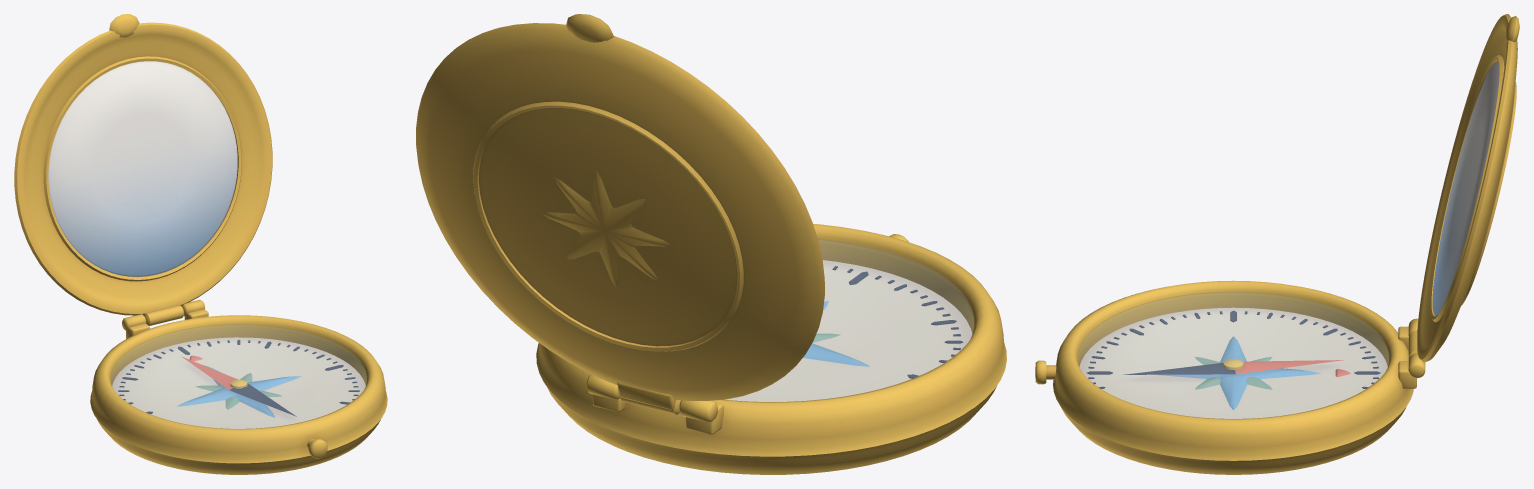
Rendered from compass.glb.
3 views of the same model, side by side, from view 1: azimuth 30°, elevation 25°; view 2: azimuth 150°, elevation 25°; view 3: azimuth 270°, elevation 25° (orthographic). The views are drawn at different scales.
Visible parts, largest first — view 1: compass_lid, compass_body, compass_glass; view 2: compass_lid, compass_body, compass_glass; view 3: compass_body, compass_glass, compass_lid.
Part boxes in pixels (left/top/right/bottom): compass_lid: left=14, top=14, right=272, bottom=325; compass_body: left=90, top=299, right=387, bottom=474; compass_glass: left=111, top=324, right=366, bottom=428; compass_lid: left=416, top=14, right=824, bottom=414; compass_body: left=536, top=224, right=1006, bottom=474; compass_glass: left=726, top=238, right=973, bottom=401; compass_body: left=1035, top=280, right=1425, bottom=474; compass_glass: left=1078, top=292, right=1388, bottom=418; compass_lid: left=1408, top=14, right=1519, bottom=362.
Bounding box in the file's own units: 0.0816 × 0.0972 × 0.1094.
3 materials, 2 textured.
